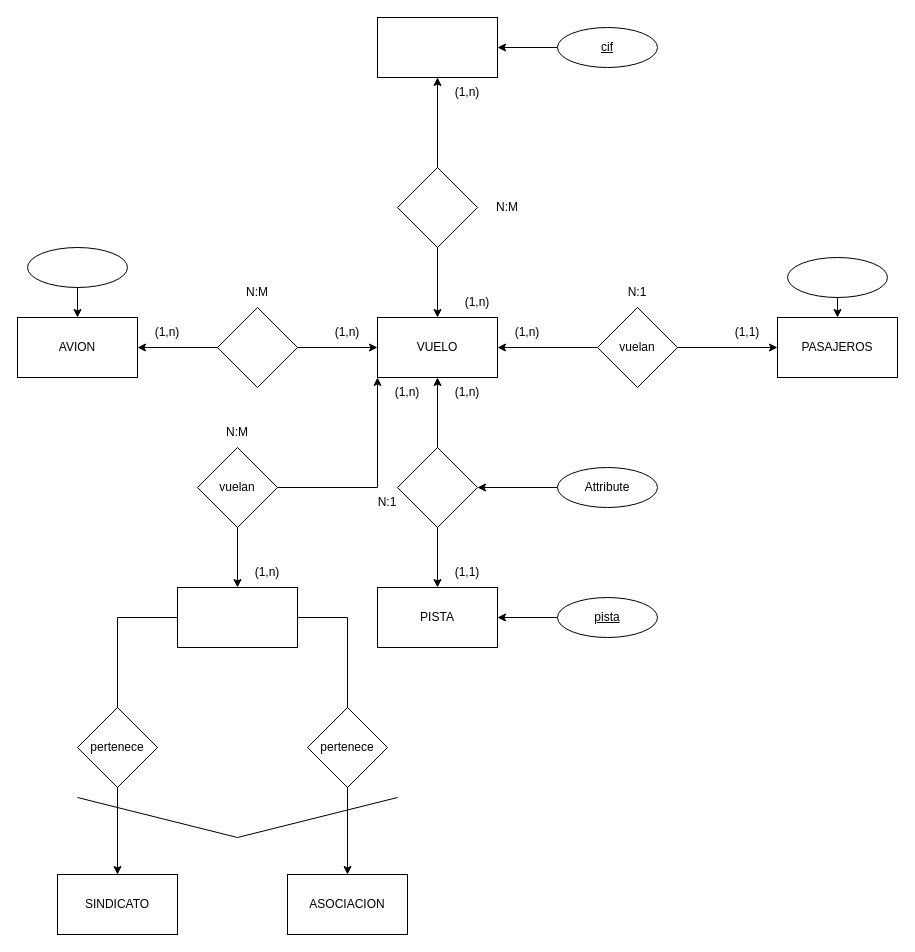
Image size: 915x952. Some labels were removed from this diagram. The shapes that lost their labels are listed below. From the top down, each one's centre as x and y in pixels, then its label:
At pixel 437 47: "AGENCIA".
At pixel 437 207: "oferta".
At pixel 77 267: "matricula".
At pixel 837 277: "dni".
At pixel 257 347: "vuela en".
At pixel 437 487: "utiliza".
At pixel 237 617: "AUXILIAR".
